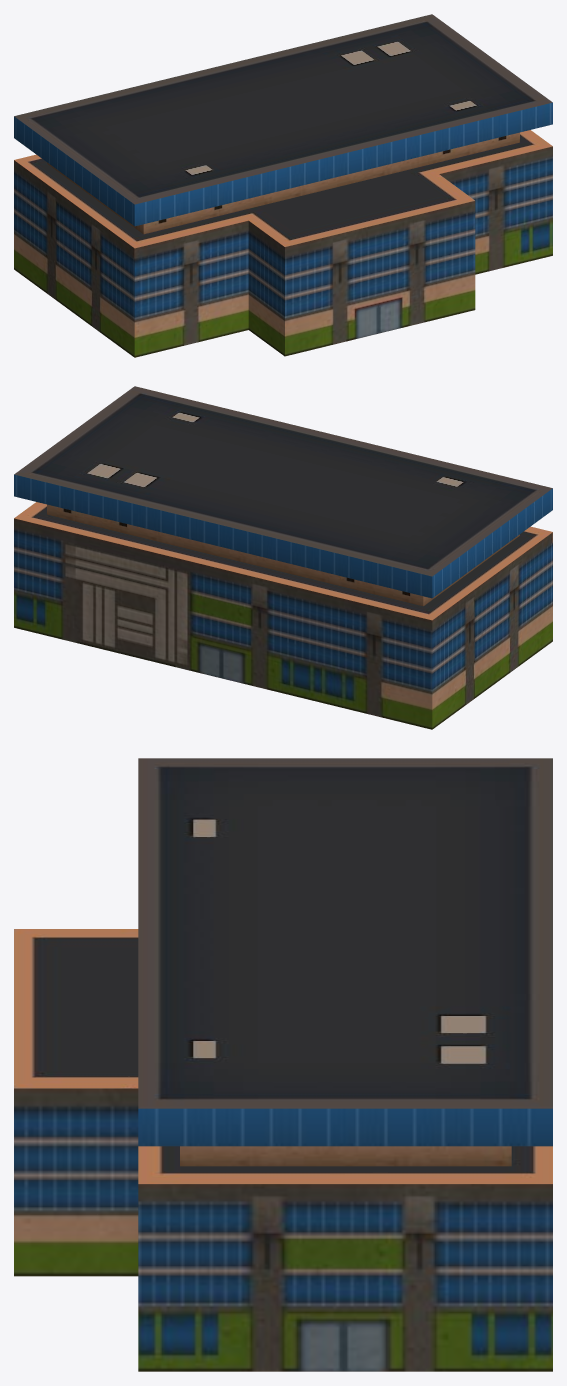
The model's file is Administrative building.FBX.
3 renders of one model, top to bottom at view 1: azimuth 30°, elevation 25°; view 2: azimuth 150°, elevation 25°; view 3: azimuth 270°, elevation 25°, orthographic. The views are drawn at different scales.
Visible parts, largest first — view 1: Administrative building; view 2: Administrative building; view 3: Administrative building.
Boxes of the visible parts, box(x1,y1,x2,y2) form: Administrative building: box(14, 14, 552, 357); Administrative building: box(14, 386, 552, 729); Administrative building: box(14, 758, 552, 1371).
Size of the model in its own units: 64.33 by 22.51 by 41.81.
Materials: 1 (1 with a texture image).
